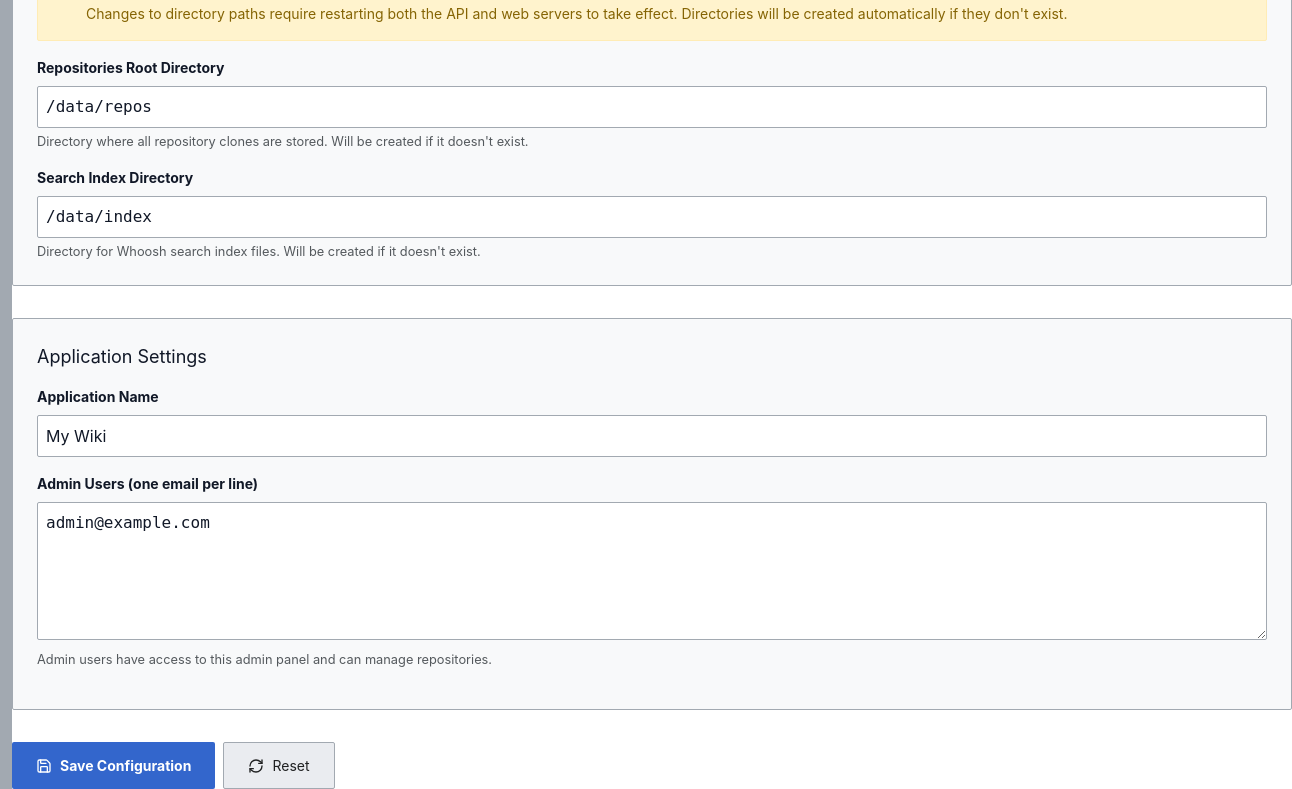
Test: ConfigManager › resets form values to original config on Reset click
(page scrolled)
Replace the text in the field labelled "Application Name" with "Changed Name" at {"x": 652, "y": 436}, box [37, 415, 1267, 457]
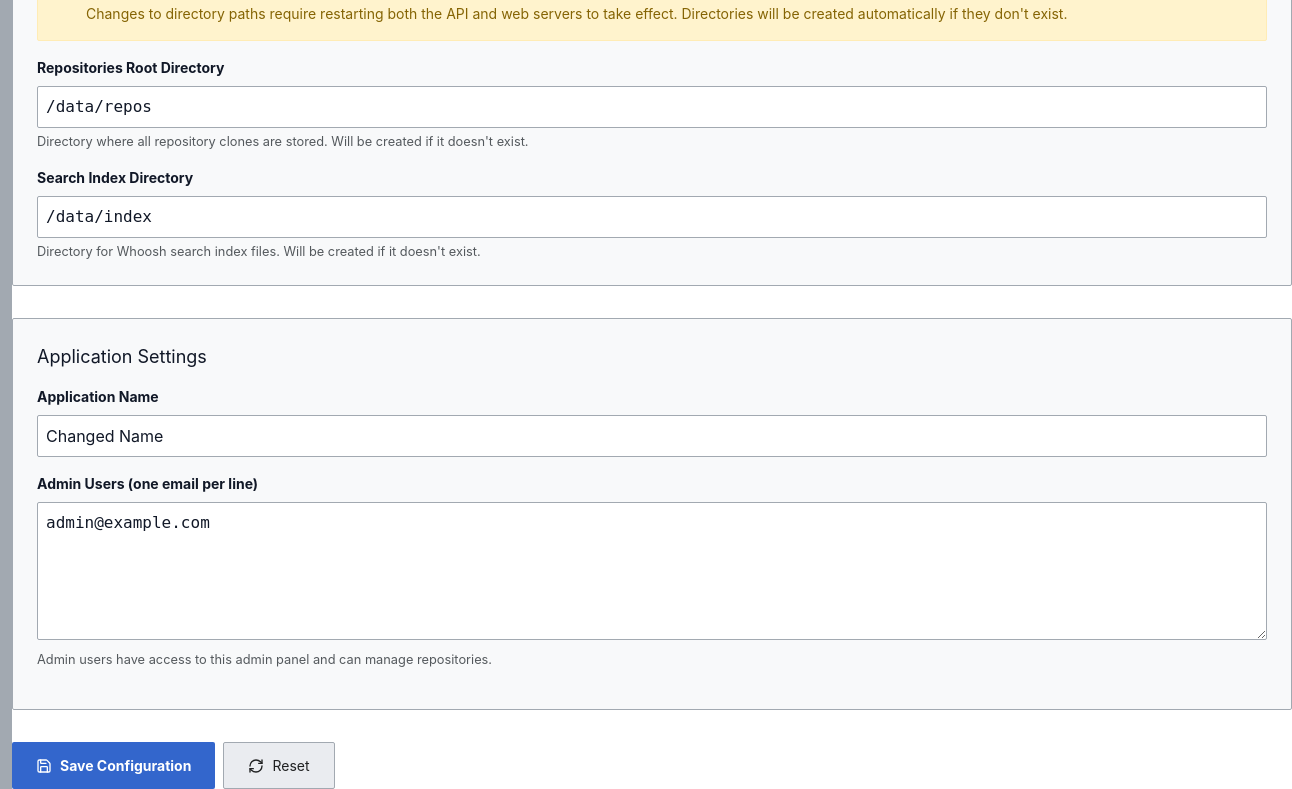
Click the button "Reset".
click(279, 766)  # box [223, 742, 334, 788]
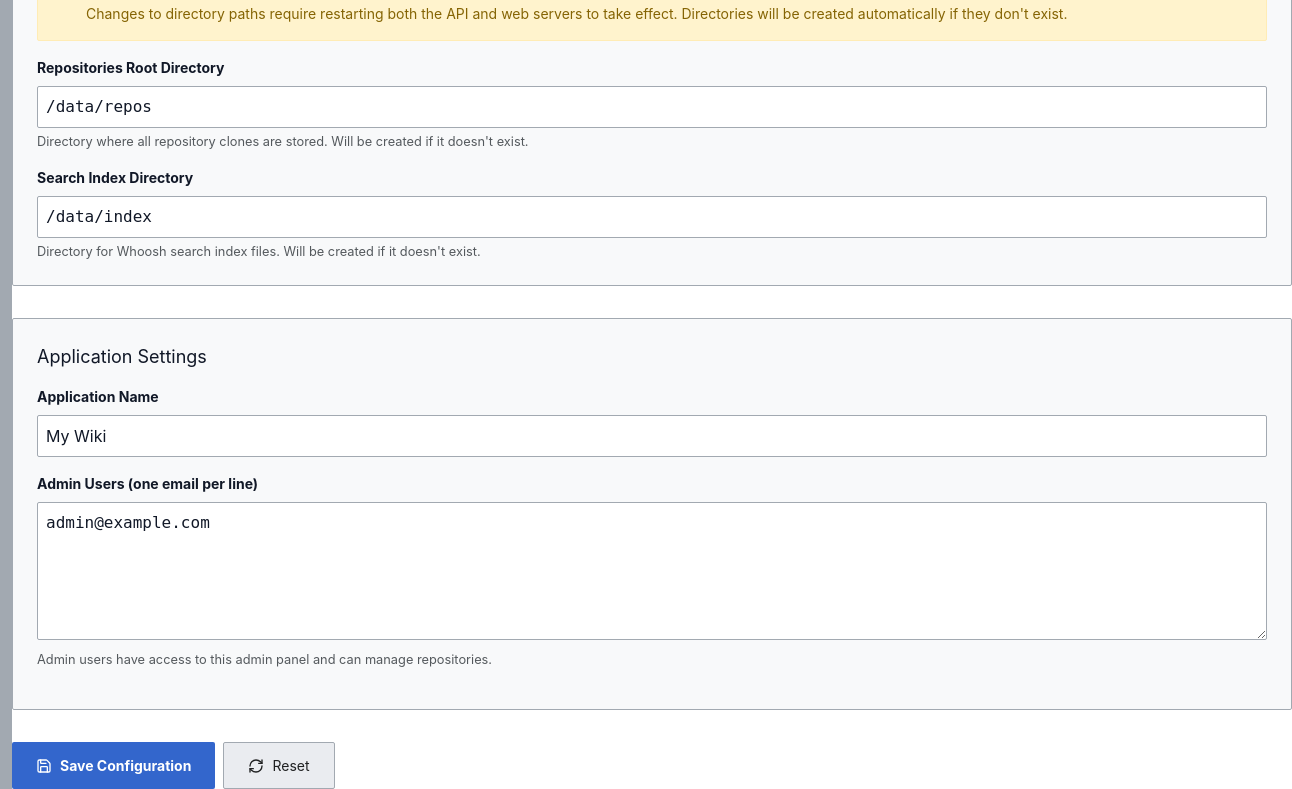
Result: the field labelled "Application Name" holds "My Wiki" at [37, 415, 1267, 457]
